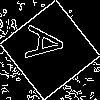A: (25, 25, 75, 64)
